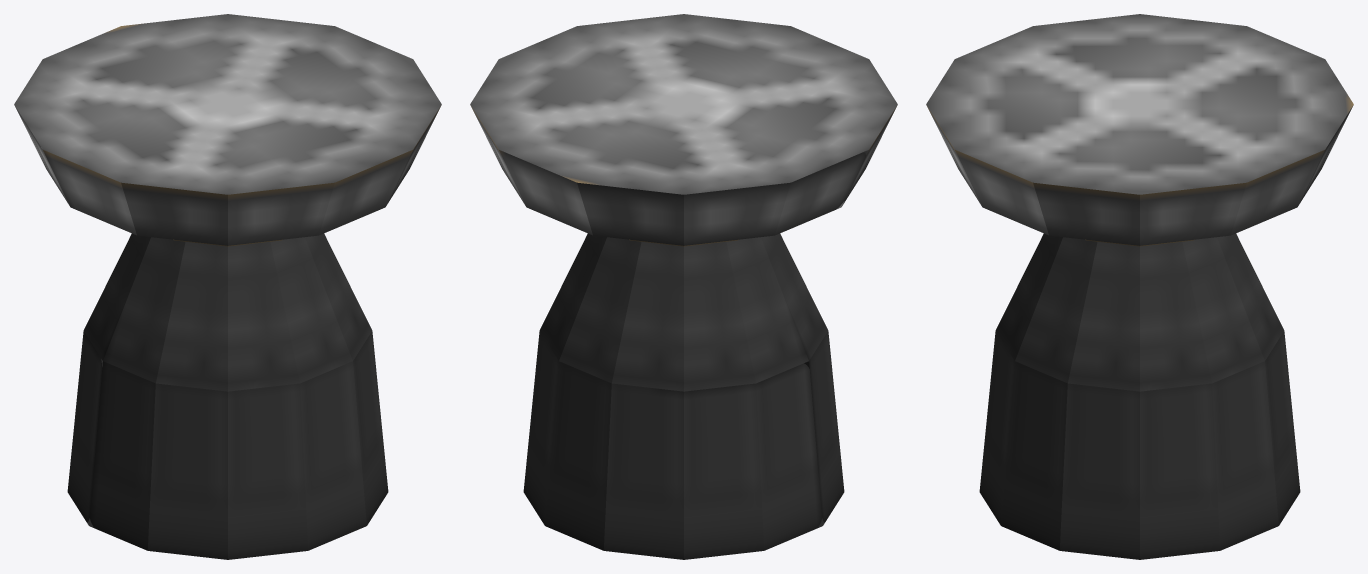
The model's file is mp_t_15_kerosene.obj.
3 views of the same model, side by side, from view 1: azimuth 30°, elevation 25°; view 2: azimuth 150°, elevation 25°; view 3: azimuth 270°, elevation 25° (orthographic).
Visible parts, largest first — view 1: Cylinder; view 2: Cylinder; view 3: Cylinder.
Boxes of the visible parts, x1,y1,x2,y2 form: Cylinder: (14,14,441,559); Cylinder: (470,14,897,559); Cylinder: (926,14,1353,559).
Size of the model in its own units: 1.5 by 1.5 by 1.5.
